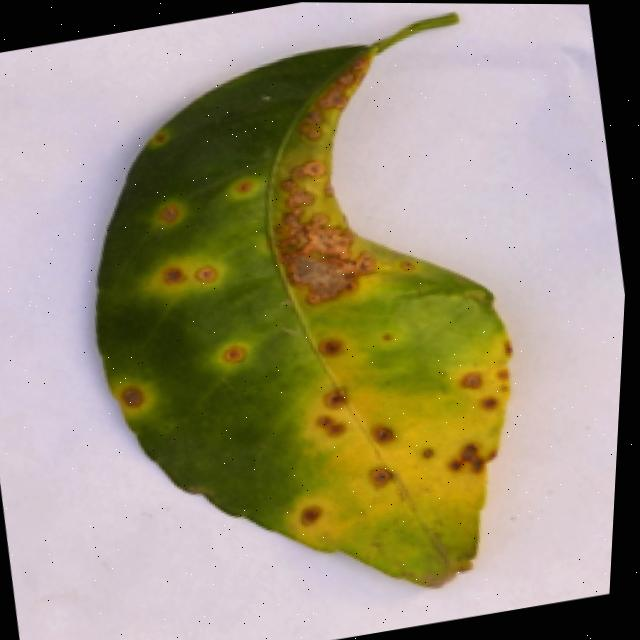canker: (100, 16, 511, 583), (233, 302, 523, 544), (228, 45, 396, 319), (134, 240, 234, 317), (99, 367, 170, 421), (131, 183, 191, 243), (207, 164, 268, 211), (198, 324, 259, 370)
